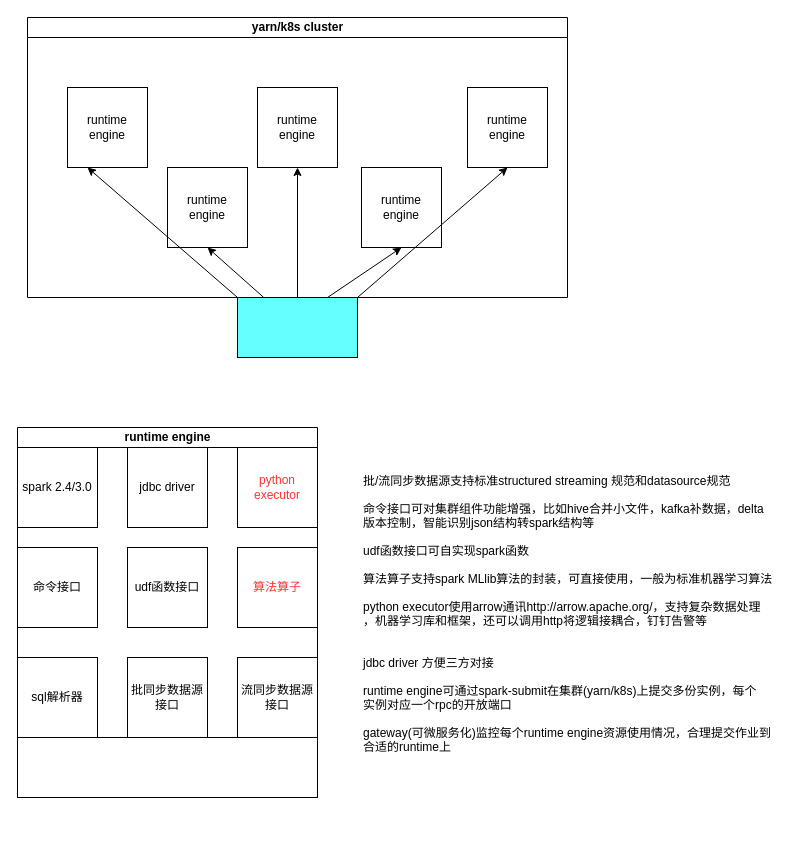
The diagram is 795 pixels wide and 848 high, and some of its shapes have lost their labels. Each missing label, with the centre of its shape:
gateway: point (297, 327)
rpc层: point (167, 767)
